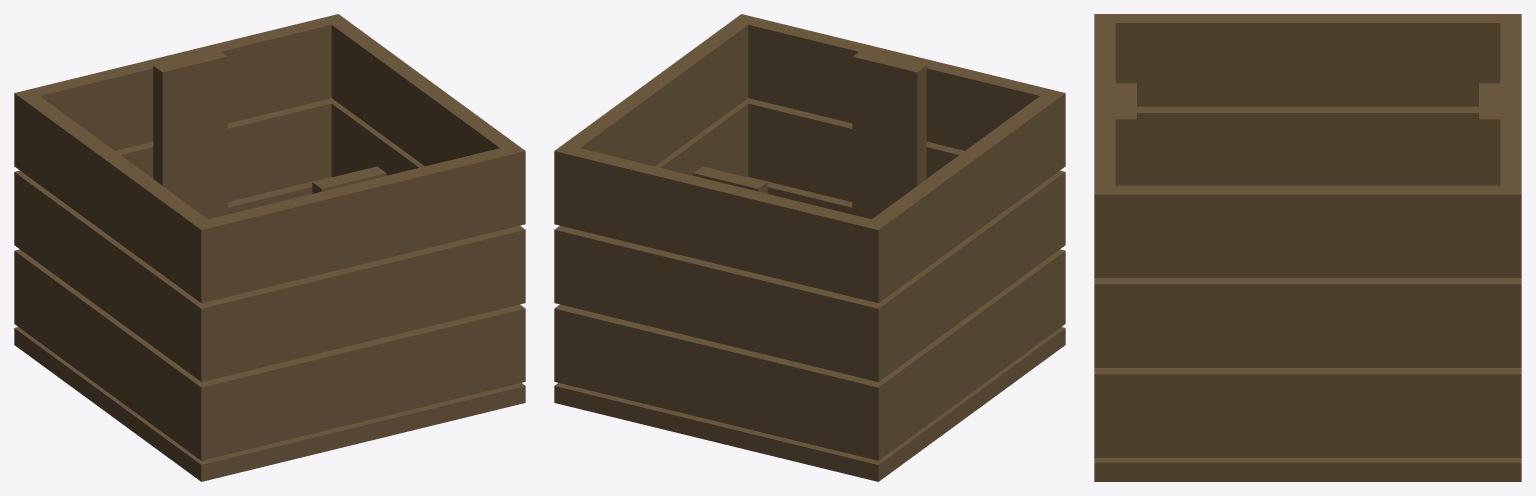
Rendered from island_crate_2.fbx.
3 renders of one model, left to right at view 1: azimuth 30°, elevation 25°; view 2: azimuth 150°, elevation 25°; view 3: azimuth 270°, elevation 25°, orthographic. The views are drawn at different scales.
Visible parts, largest first — view 1: Cube.038; view 2: Cube.038; view 3: Cube.038.
Boxes of the visible parts, x1,y1,x2,y2 form: Cube.038: (14, 14, 525, 481); Cube.038: (554, 14, 1065, 481); Cube.038: (1094, 14, 1521, 481).
Bounding box in the file's own units: 1 × 0.75 × 1.
